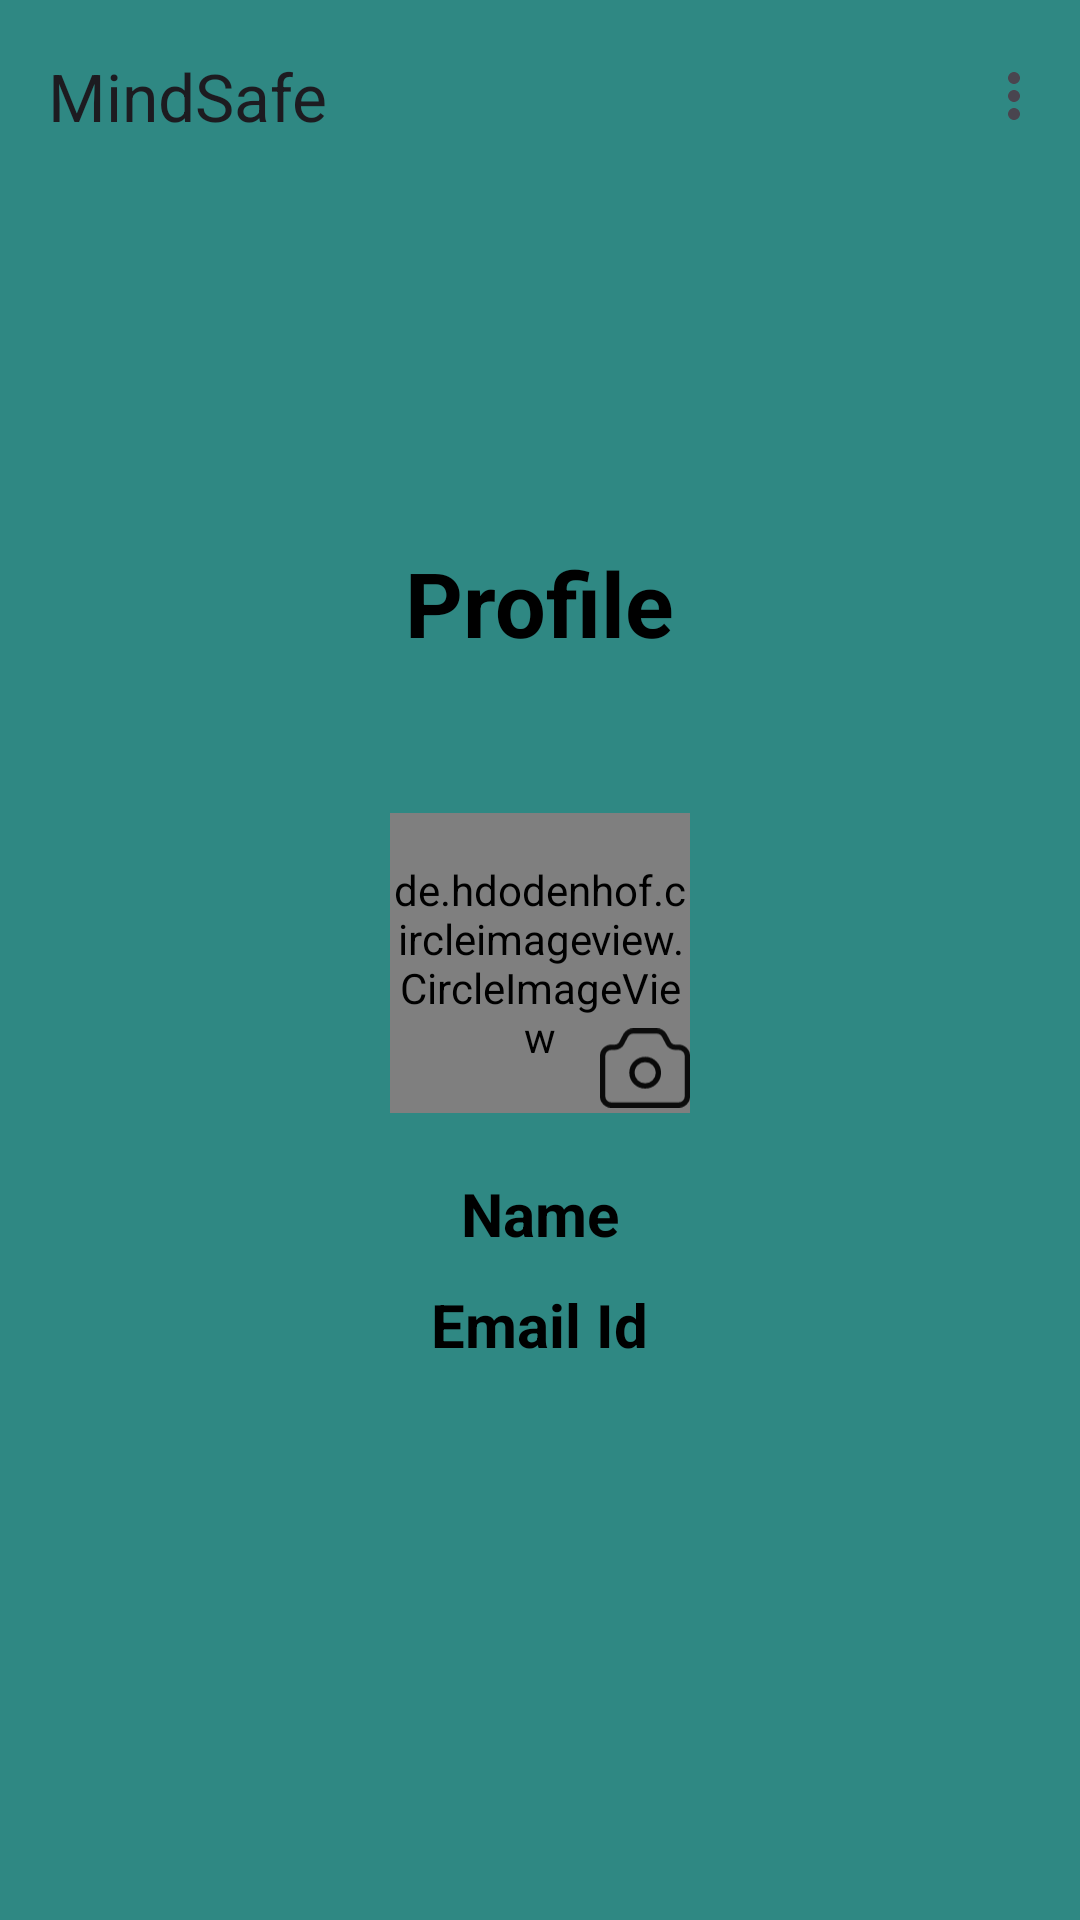

Screen size 1080x1920. Icon name, then its center in pixels as (x=x, y=y):
camera: (x=645, y=1068)
